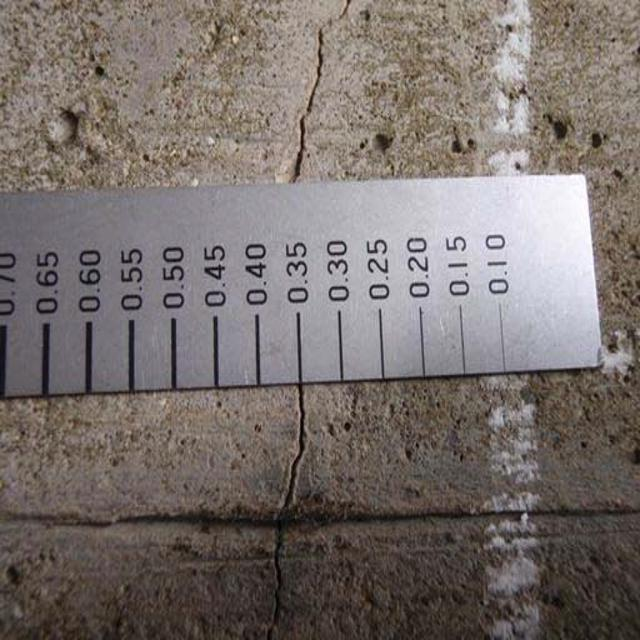crack: (237, 388, 328, 640), (274, 3, 369, 188)
